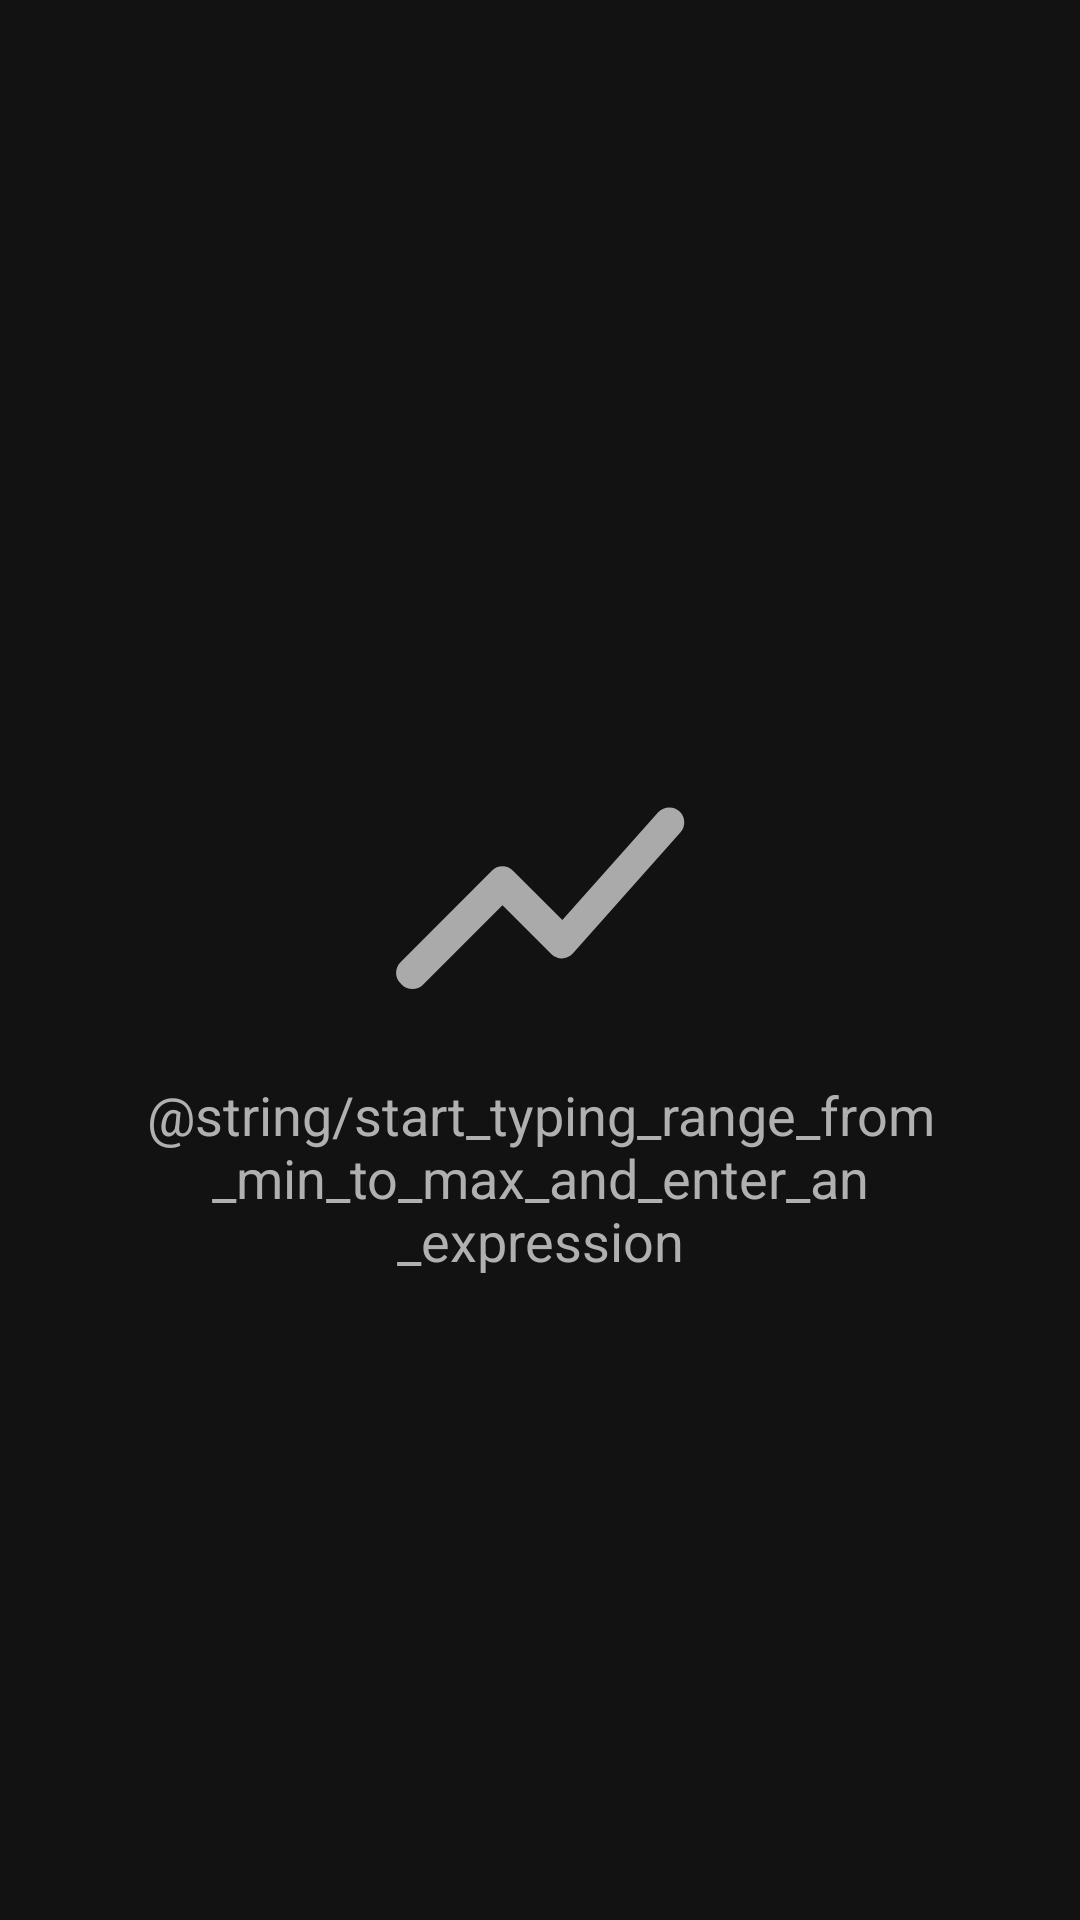

Where icons sit on this 1080w x 1920h app screen, as (x1=x1, y1=y1, x2=x2, y2=y2):
no line chart: (x1=396, y1=807, x2=685, y2=989)
